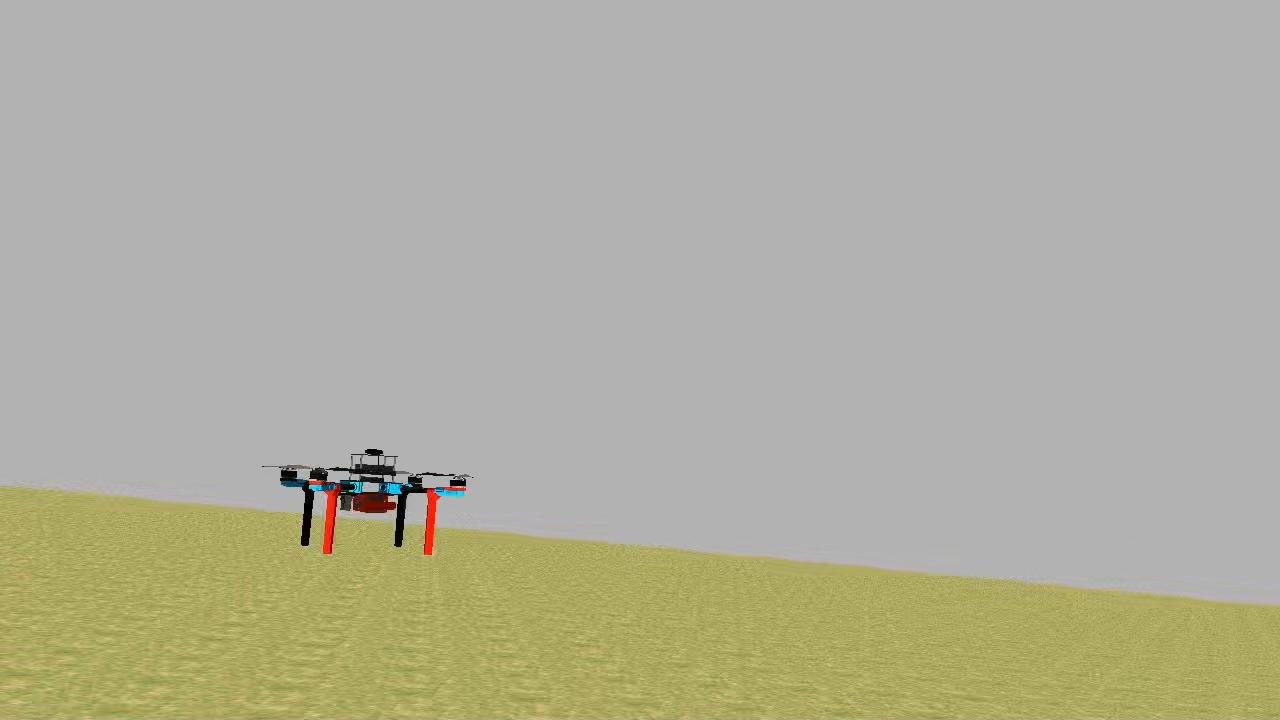UAV: (280, 440, 476, 562)
